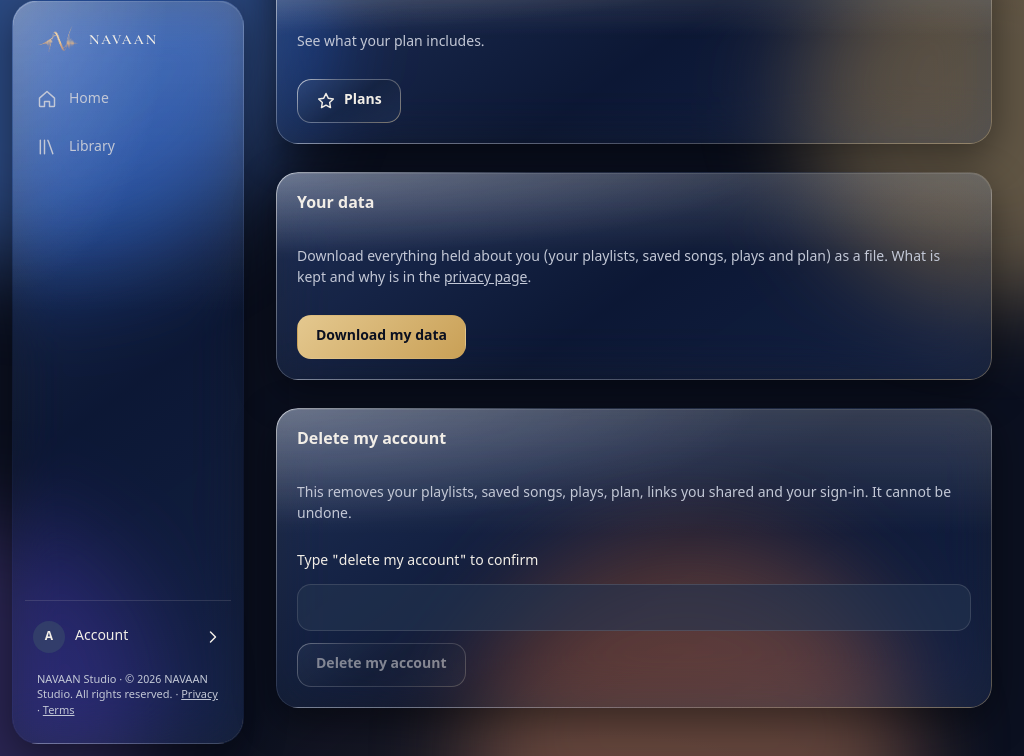
Test: Account › offers the export and deletes only after the phrase is typed
(page scrolled)
Check: the button "Delete my account" is disabled, box left=297, top=643, right=466, bottom=687
In the field labelled "Type \"delete my account\" to confirm": x=634, y=608 left=297, top=584, right=971, bottom=631, type "delete my account"
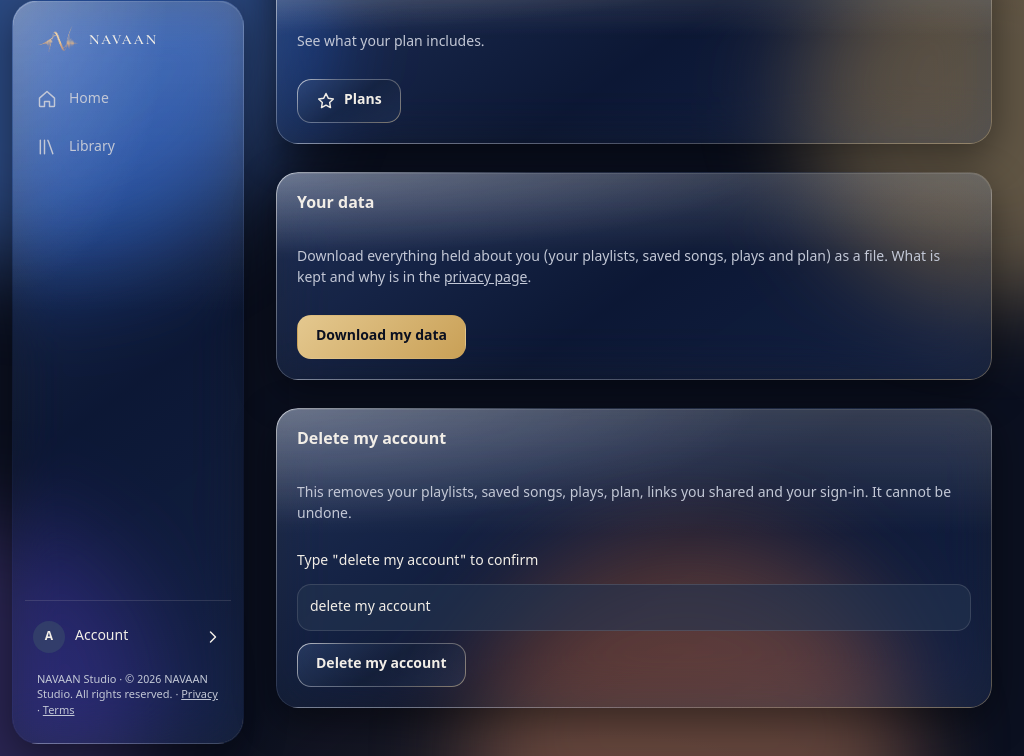
Check: the button "Delete my account" is enabled
Click the button "Delete my account": x=381, y=665 left=297, top=643, right=466, bottom=687
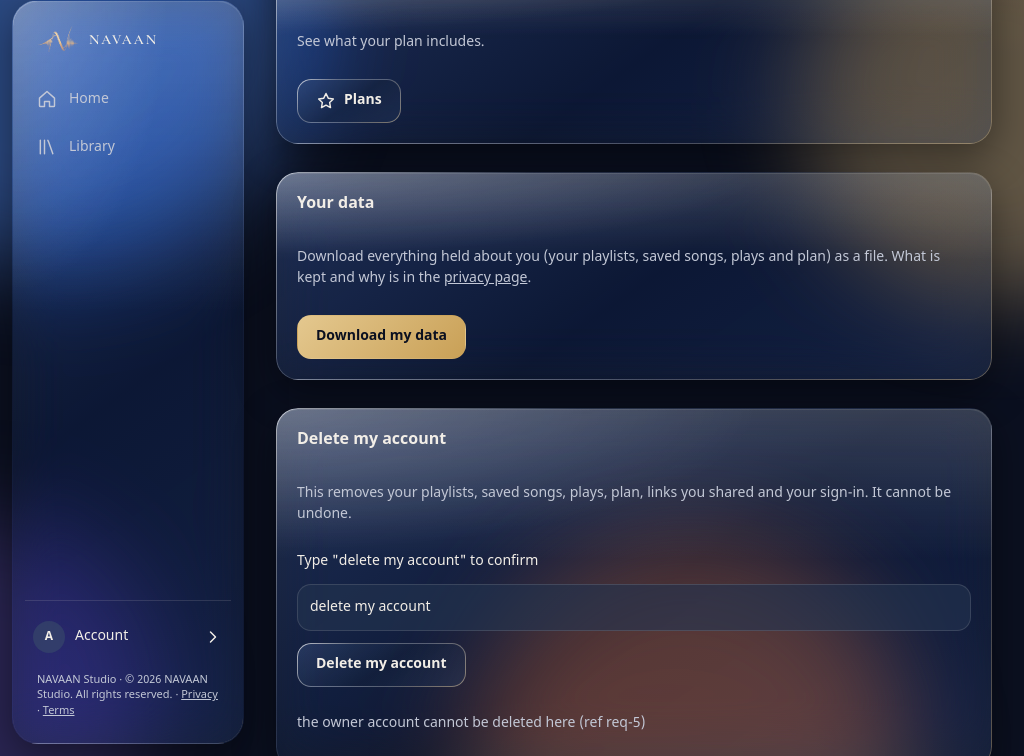
Check: the message shows "owner account cannot be deleted", box left=297, top=714, right=645, bottom=733
